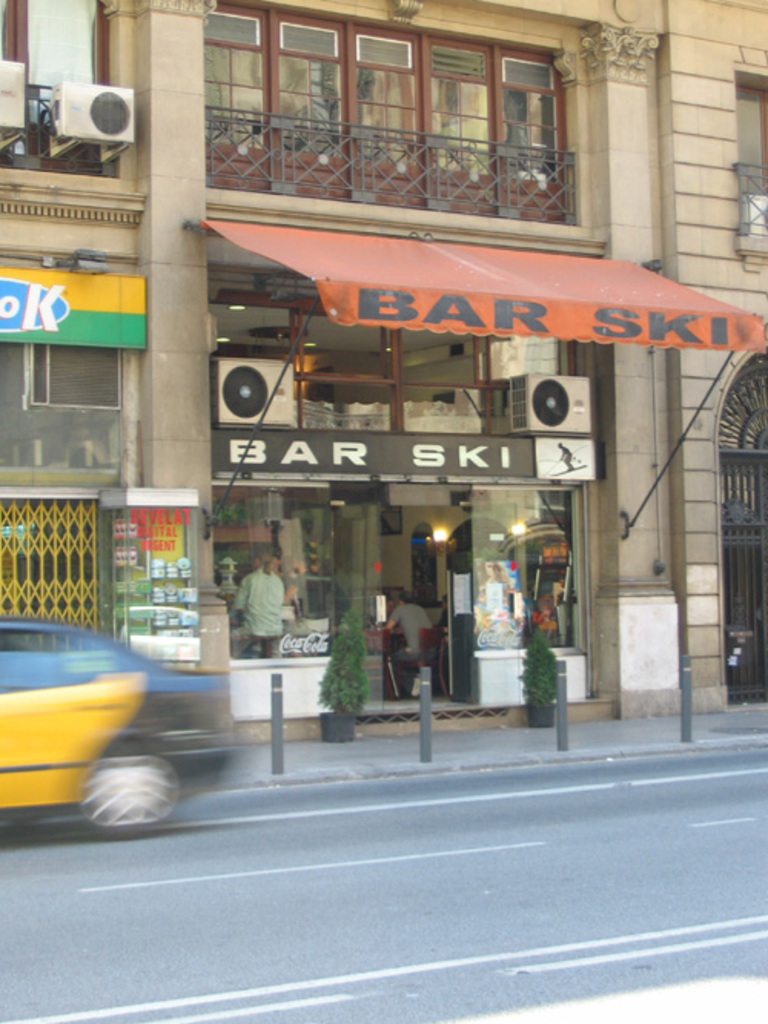cars: (7, 622, 258, 820)
